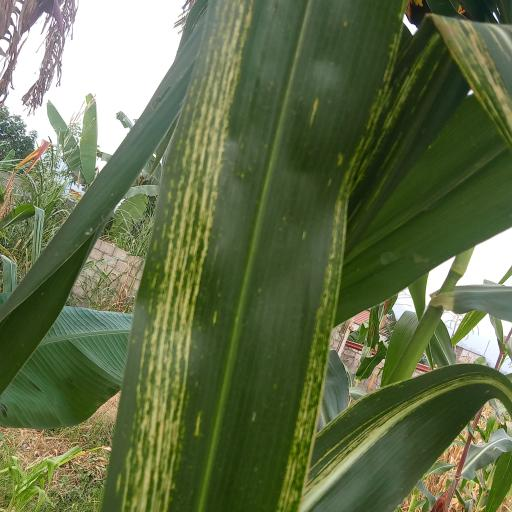Corn_Streak: (96, 0, 416, 512)
Corn_Stripe: (307, 362, 512, 512)
